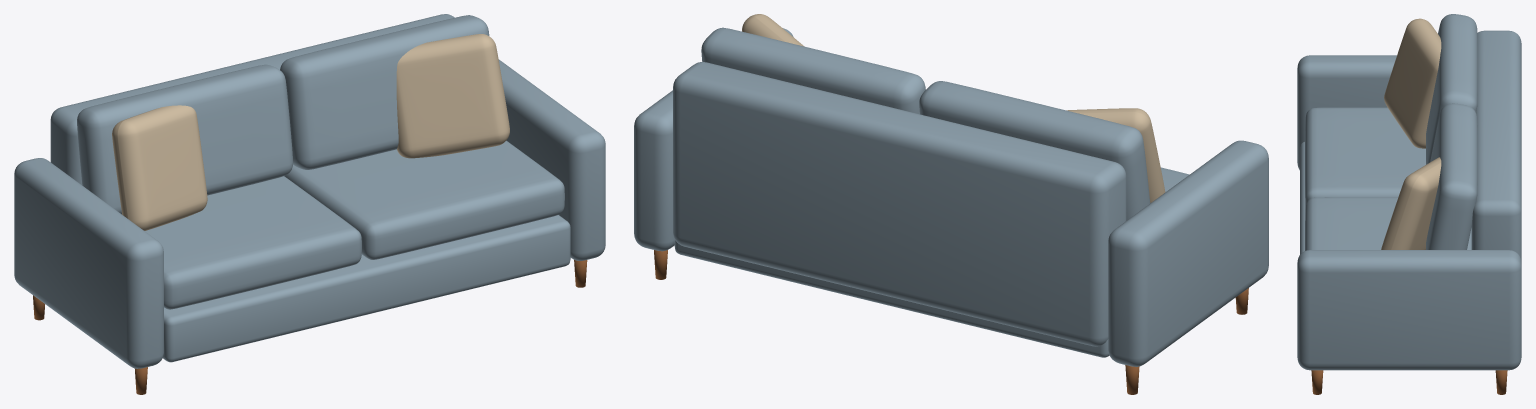
Rendered from sofa.glb.
3 renders of one model, left to right at view 1: azimuth 30°, elevation 25°; view 2: azimuth 150°, elevation 25°; view 3: azimuth 270°, elevation 25°, orthographic. The views are drawn at different scales.
Visible parts, largest first — view 1: Bastidor, Brazo, Cojín asiento.001, Cojín asiento, Cojín respaldo, Cojín respaldo.001, Cojín decorativo.001, Brazo.001, Cojín decorativo, Respaldo; view 2: Respaldo, Brazo, Cojín respaldo, Cojín respaldo.001, Brazo.001, Bastidor, Cojín decorativo, Cojín decorativo.001; view 3: Brazo.001, Respaldo, Cojín asiento, Cojín respaldo.001, Brazo, Cojín decorativo, Cojín asiento.001, Cojín respaldo, Cojín decorativo.001, Bastidor, Pata.002, Pata.003.
Part boxes in pixels (x1,y1,x2,y2): Bastidor: [163, 215, 570, 362]; Brazo: [14, 158, 163, 368]; Cojín asiento.001: [284, 140, 564, 259]; Cojín asiento: [145, 176, 361, 309]; Cojín respaldo: [77, 64, 293, 214]; Cojín respaldo.001: [280, 15, 489, 169]; Cojín decorativo.001: [396, 34, 509, 158]; Brazo.001: [498, 59, 605, 260]; Cojín decorativo: [112, 105, 207, 230]; Respaldo: [50, 14, 454, 184]; Respaldo: [673, 62, 1126, 346]; Brazo: [1108, 140, 1268, 366]; Cojín respaldo: [919, 81, 1150, 220]; Cojín respaldo.001: [701, 27, 925, 114]; Brazo.001: [634, 28, 793, 251]; Bastidor: [674, 239, 1109, 357]; Cojín decorativo: [1066, 108, 1165, 202]; Cojín decorativo.001: [742, 14, 804, 46]; Brazo.001: [1297, 250, 1521, 370]; Respaldo: [1471, 30, 1521, 261]; Cojín asiento: [1305, 107, 1425, 208]; Cojín respaldo.001: [1426, 103, 1477, 249]; Brazo: [1297, 55, 1396, 170]; Cojín decorativo: [1384, 18, 1441, 148]; Cojín asiento.001: [1305, 197, 1471, 250]; Cojín respaldo: [1426, 14, 1477, 164]; Cojín decorativo.001: [1381, 157, 1441, 249]; Bastidor: [1300, 141, 1305, 254]; Pata.002: [1311, 370, 1323, 394]; Pata.003: [1495, 370, 1507, 394].
Size of the model in its own units: 2 by 0.8835 by 0.9.
